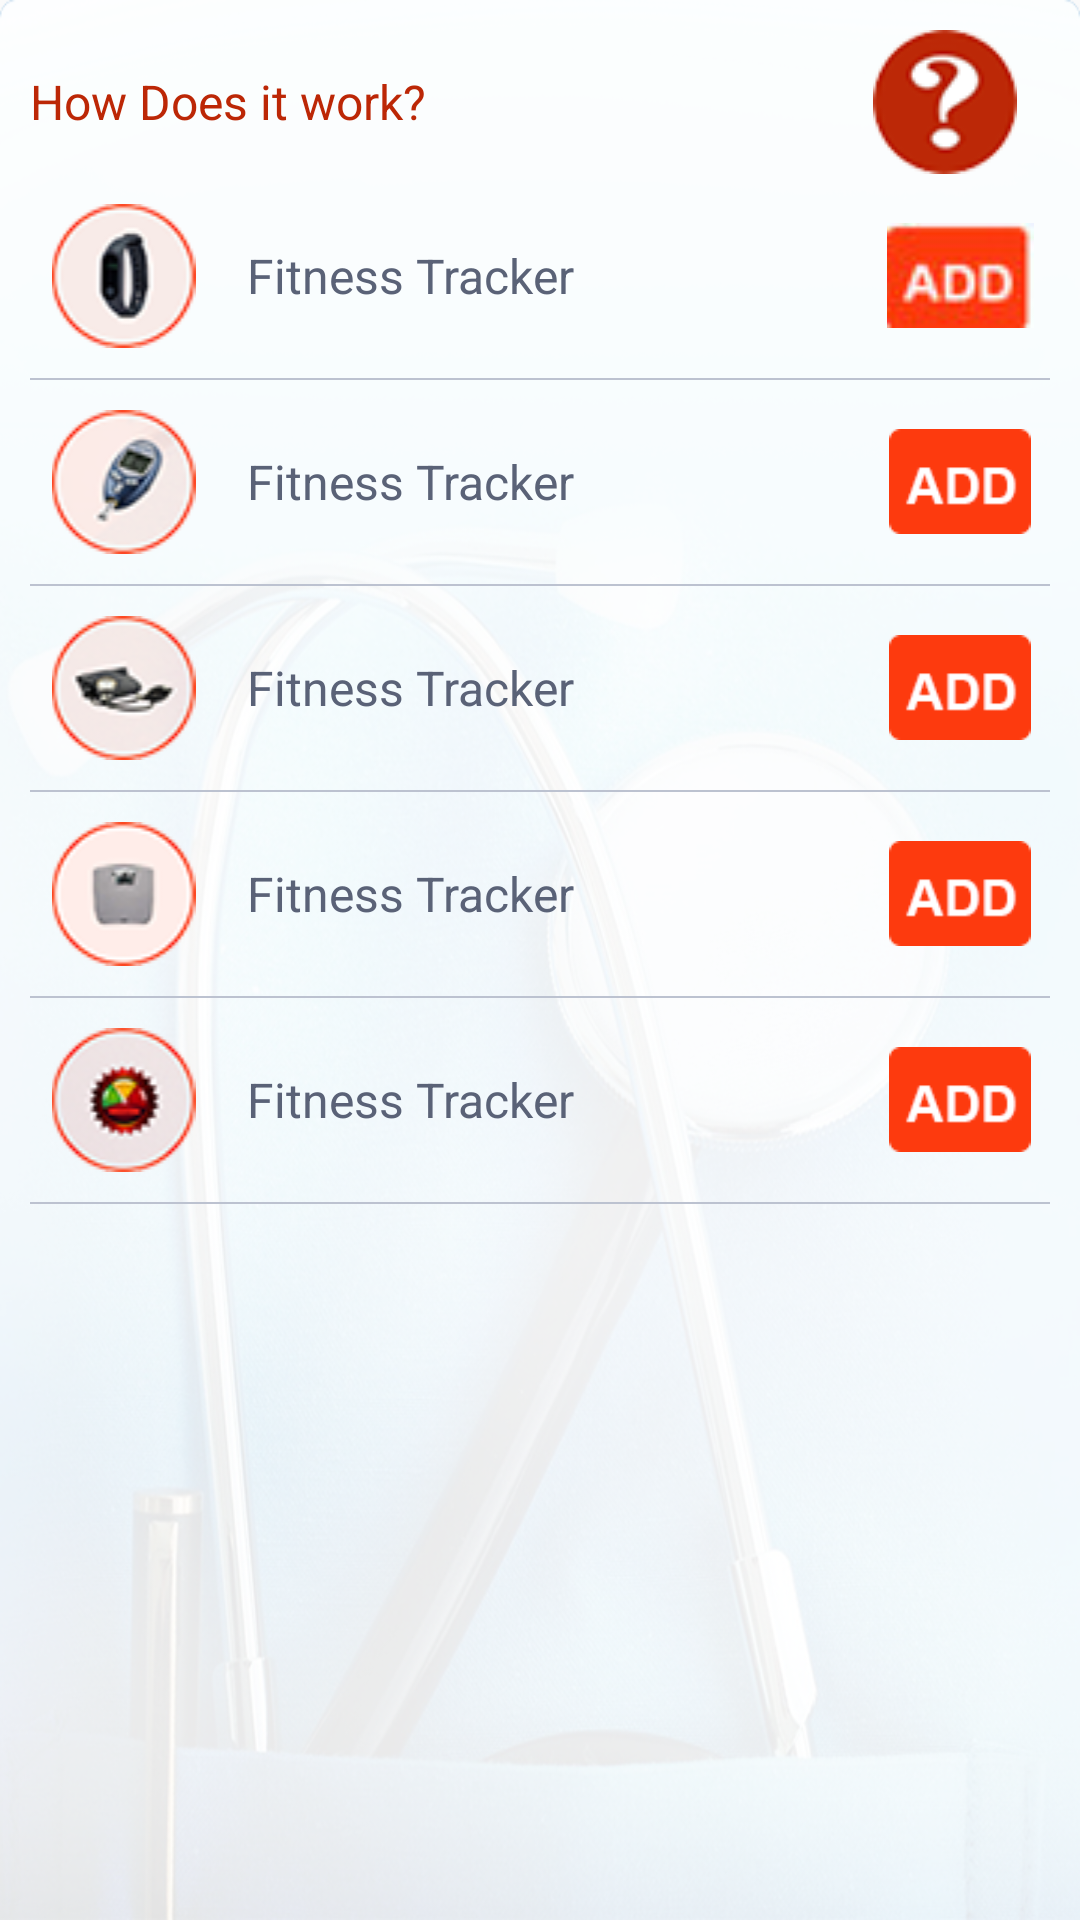

Icon click points for this 1080×1920 phone screenshot, format [x,y]:
glumeter: [124,482]
quary: [945,102]
scale: [139,894]
